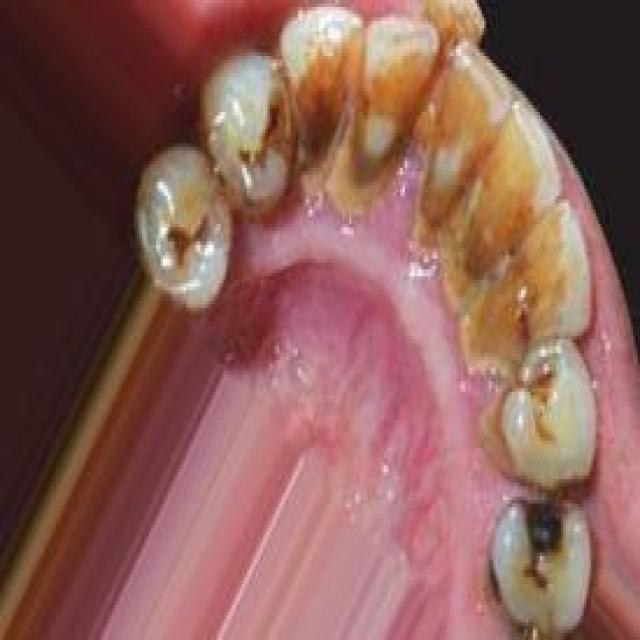caries: (509, 497, 565, 603), (231, 87, 289, 172), (163, 195, 216, 277), (520, 360, 564, 447)
